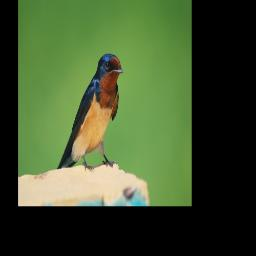Swallow: (56, 52, 124, 173)
